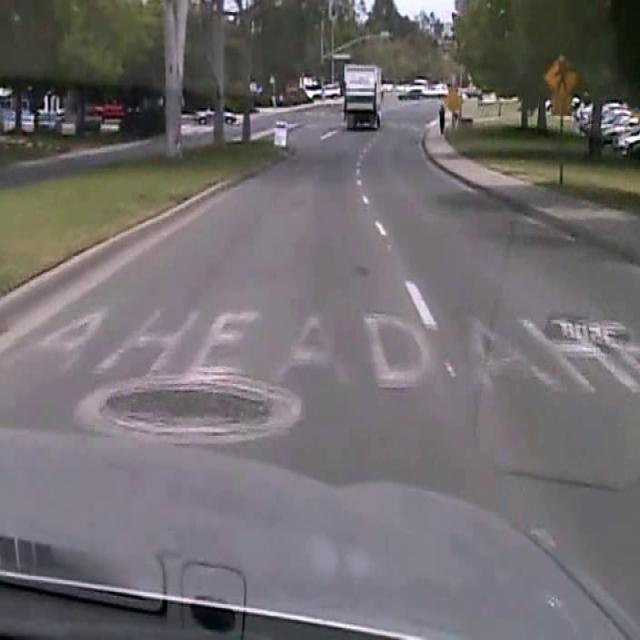pedestrianCrossing: (542, 52, 579, 97)
